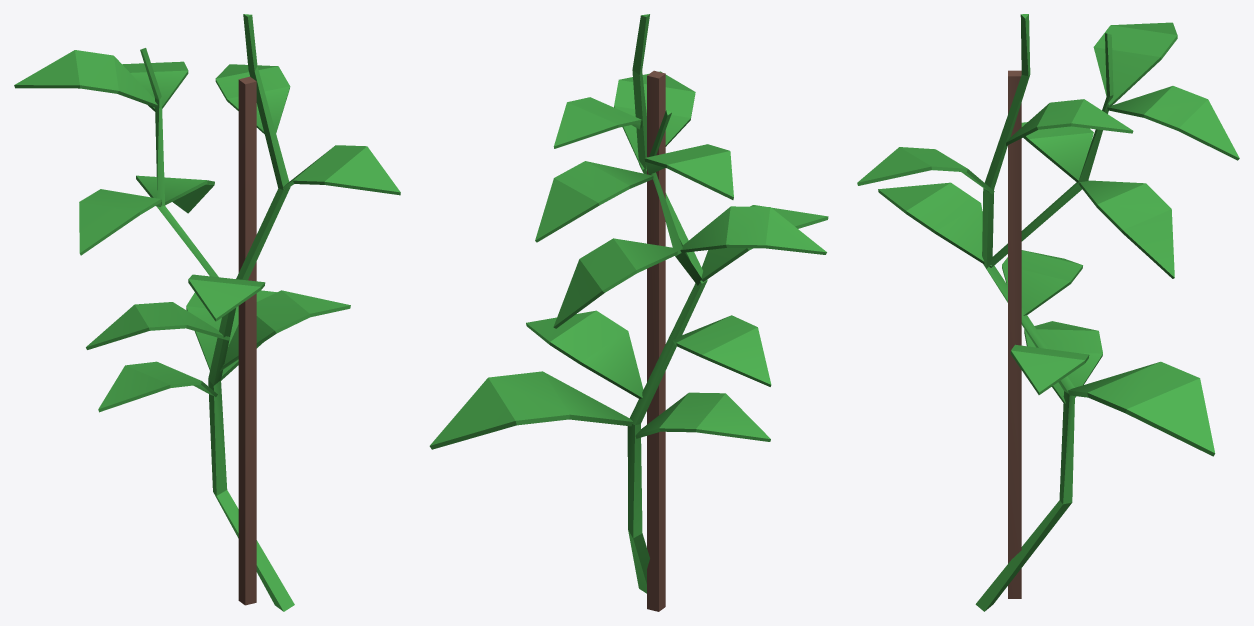
The model's file is plant_006.glb.
The picture shows the model from 3 angles, left to right: view 1: azimuth 30°, elevation 25°; view 2: azimuth 150°, elevation 25°; view 3: azimuth 270°, elevation 25°; orthographic projection. The views are drawn at different scales.
Parts seen in each view (by area): view 1: plant_006; view 2: plant_006; view 3: plant_006.
Boxes of the visible parts, bbox=[...] form: plant_006: bbox=[14, 14, 400, 611]; plant_006: bbox=[429, 14, 828, 611]; plant_006: bbox=[857, 14, 1239, 611].
Size of the model in its own units: 1.04 by 2 by 1.19.
1 material, 1 textured.
